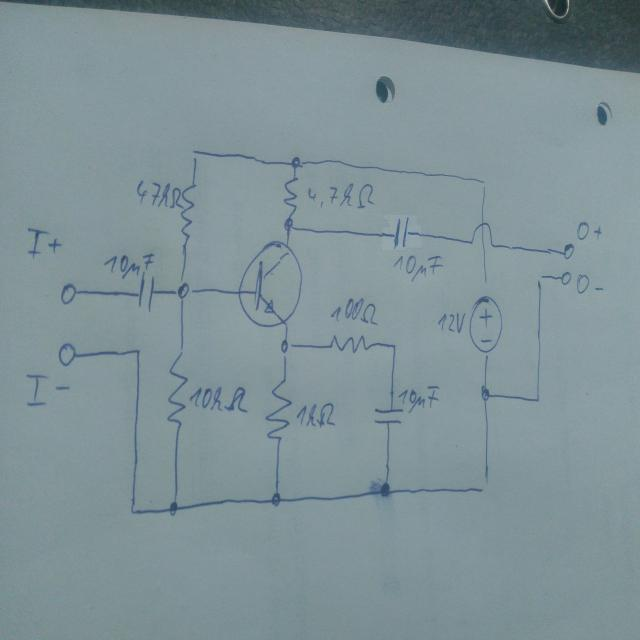capacitor: (136, 269, 156, 313), (392, 214, 410, 251), (372, 406, 405, 426)
crossover: (468, 220, 497, 252)
junction: (289, 150, 305, 175), (478, 476, 494, 496), (176, 281, 191, 302), (282, 214, 297, 233), (378, 481, 393, 500), (188, 144, 202, 164), (270, 489, 284, 509), (168, 499, 180, 519), (130, 345, 144, 362), (478, 386, 492, 402), (478, 177, 491, 194), (279, 338, 291, 355), (129, 503, 141, 519), (534, 271, 546, 286), (532, 391, 544, 406), (388, 340, 399, 356)
resistor: (165, 345, 190, 431), (263, 376, 293, 446), (179, 179, 198, 245), (327, 332, 371, 354), (282, 175, 300, 214)
source: (466, 294, 504, 354)
terminal: (56, 341, 78, 367), (58, 282, 78, 306), (561, 240, 577, 260), (559, 268, 573, 287)
text: (306, 180, 378, 211), (188, 384, 249, 416), (134, 177, 183, 214), (23, 371, 72, 408), (392, 253, 443, 283), (329, 297, 380, 326), (102, 251, 156, 278), (22, 226, 64, 258), (399, 384, 441, 413), (296, 402, 336, 428), (435, 308, 466, 336), (574, 273, 605, 295), (576, 220, 604, 244)
transistor: (236, 236, 304, 330)
